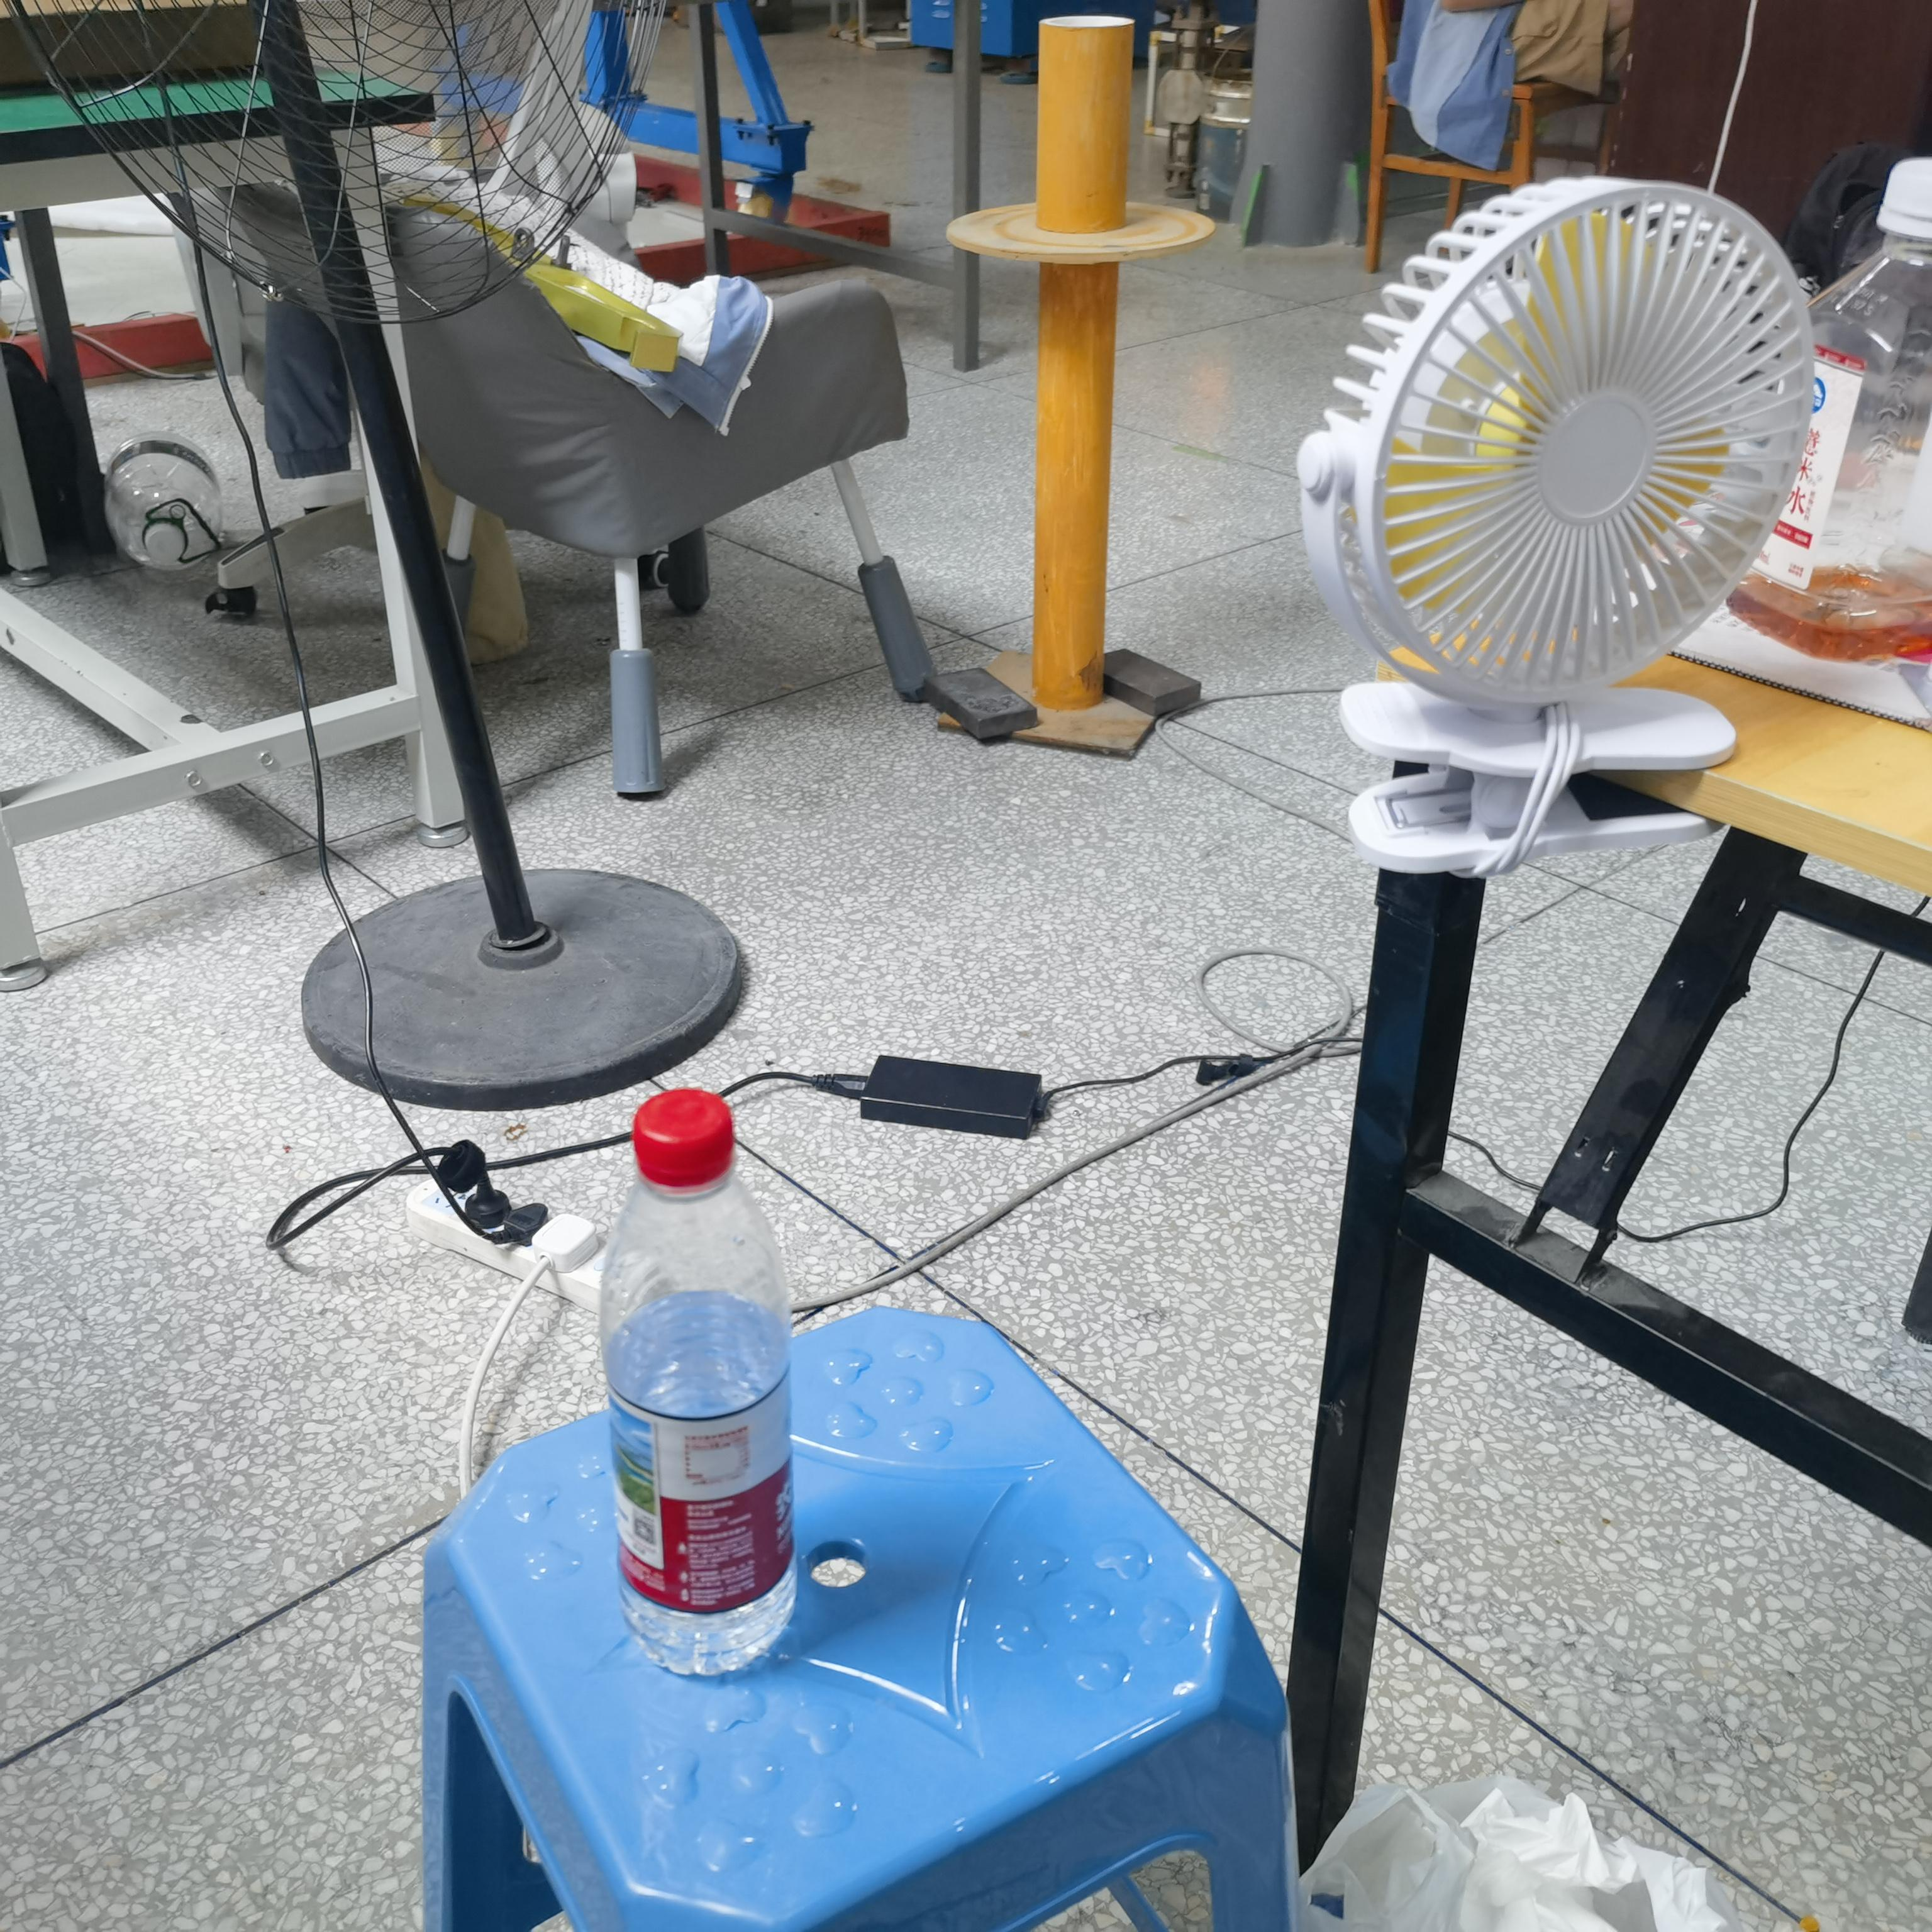bottle: (591, 1086, 816, 1690)
fan: (1283, 168, 1831, 878)
